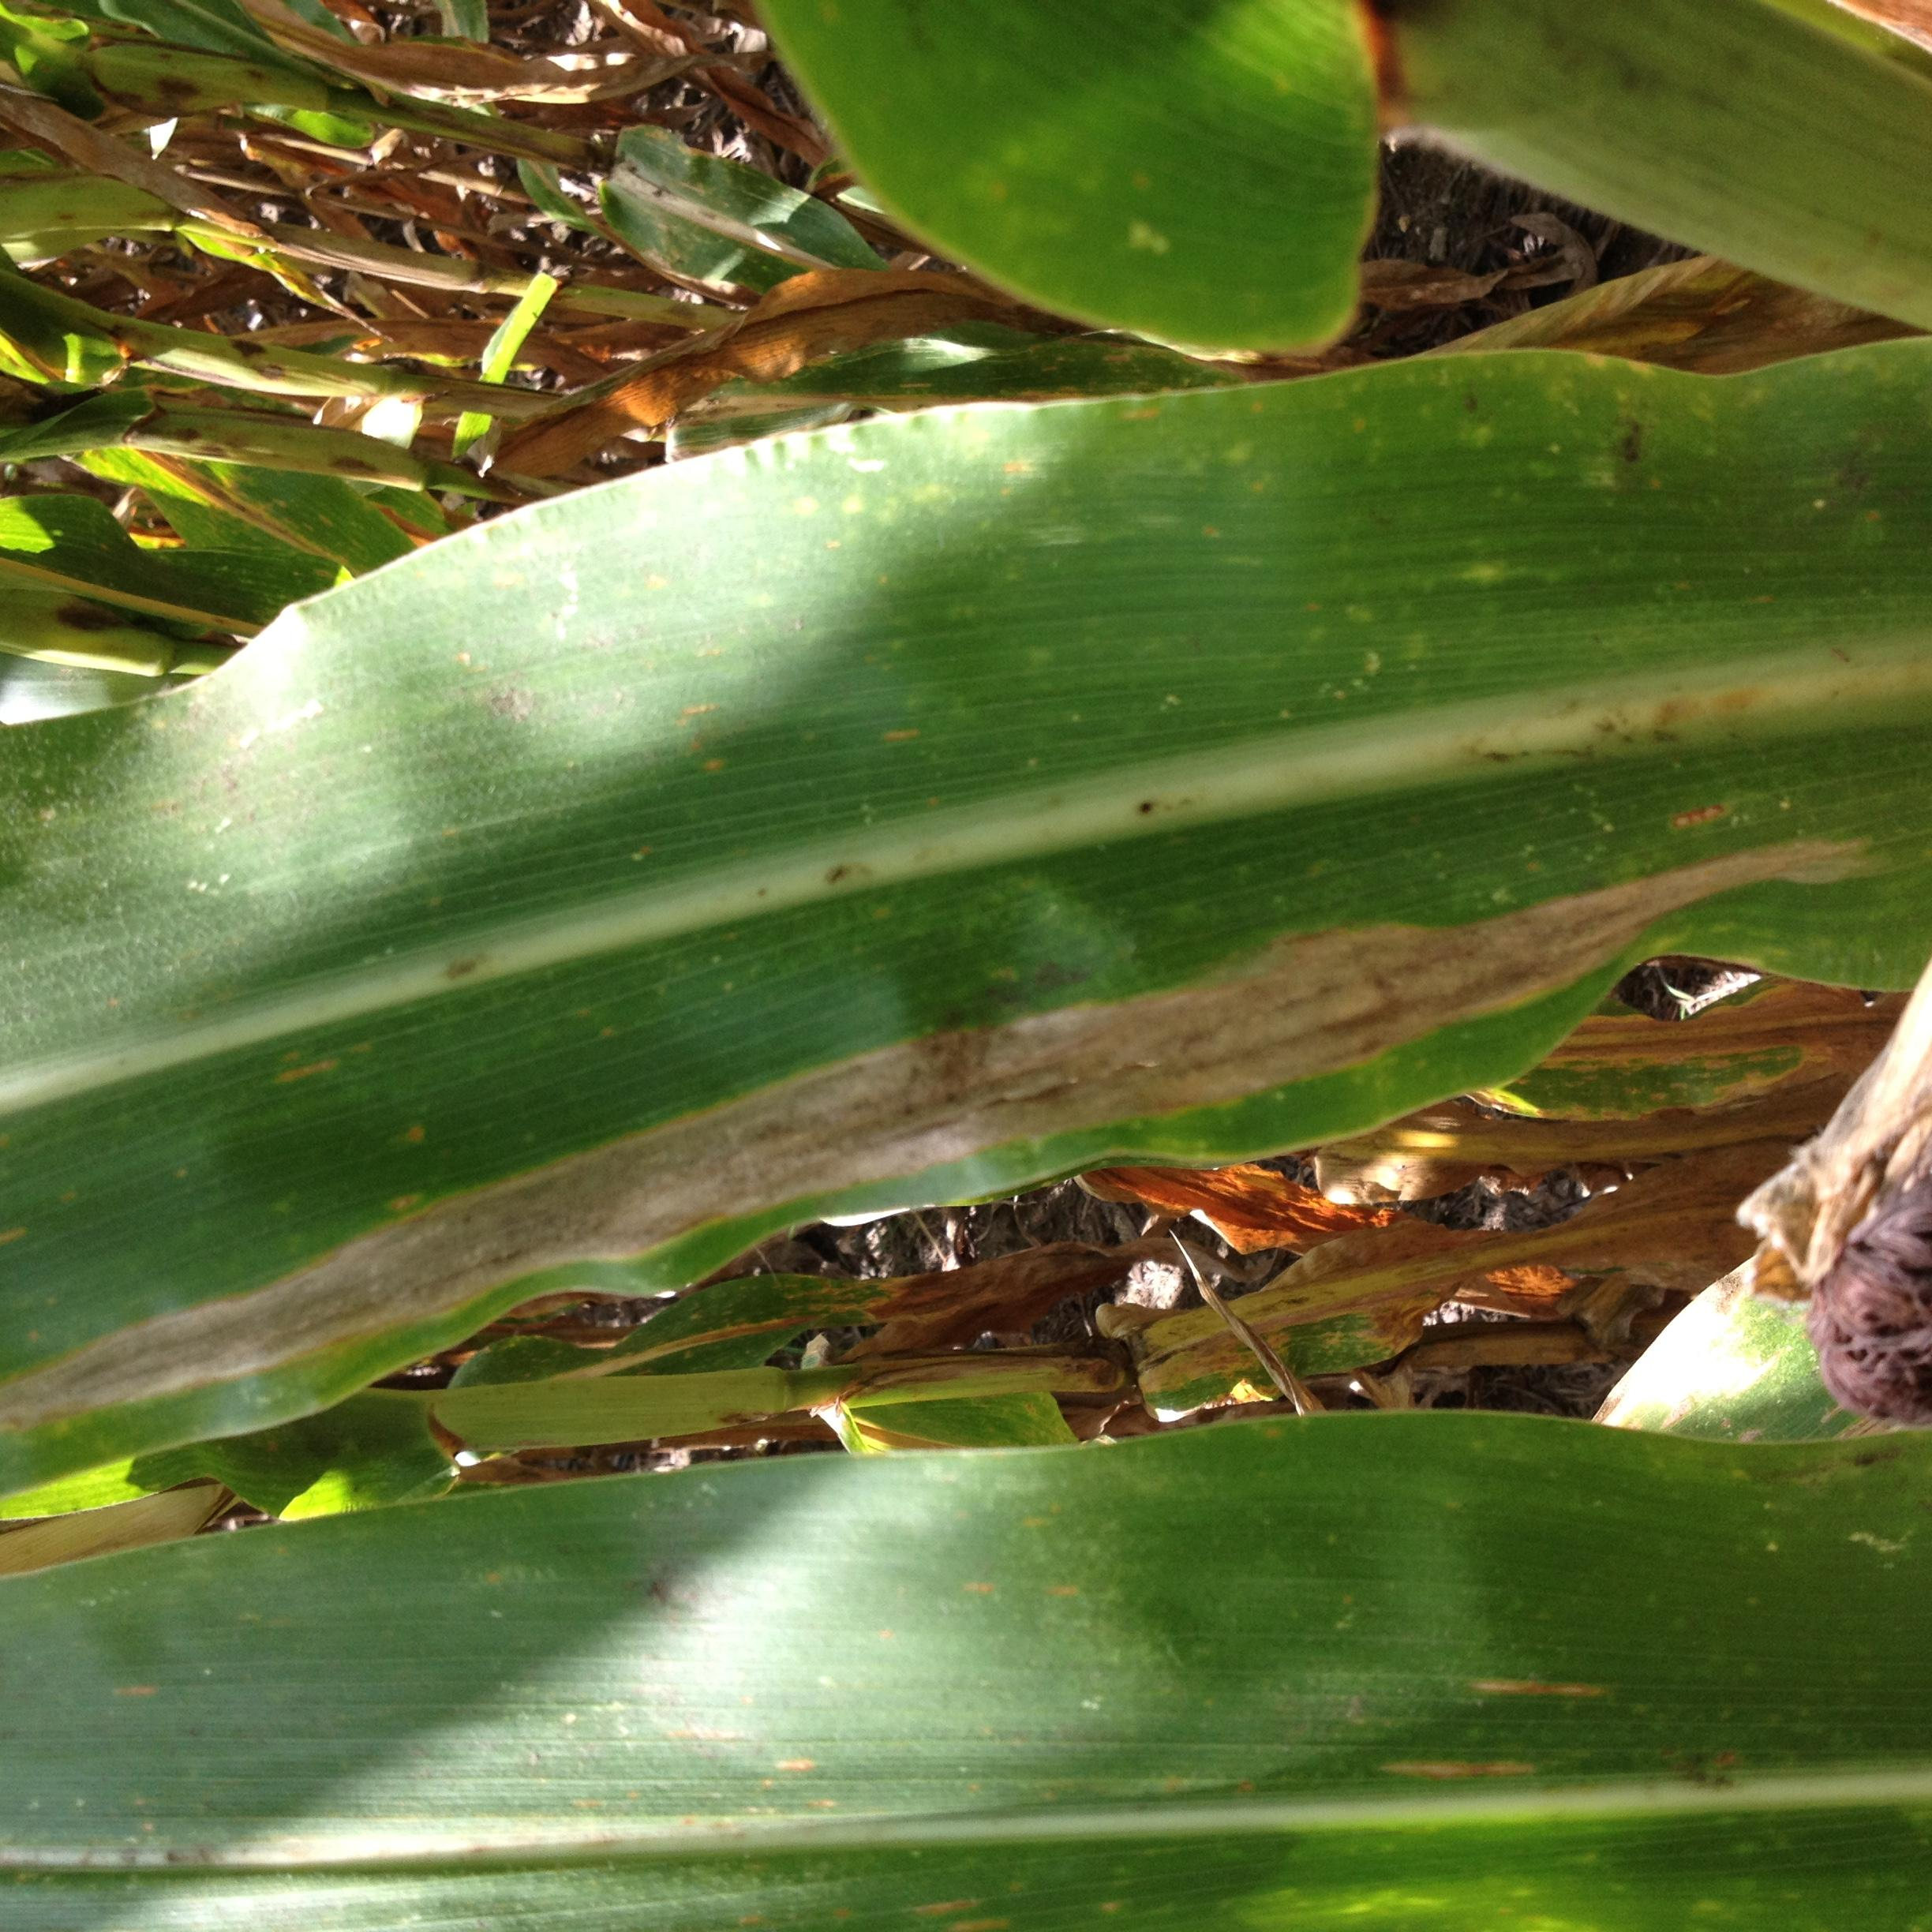Corn leaf blight: (0, 326, 1923, 1449)
